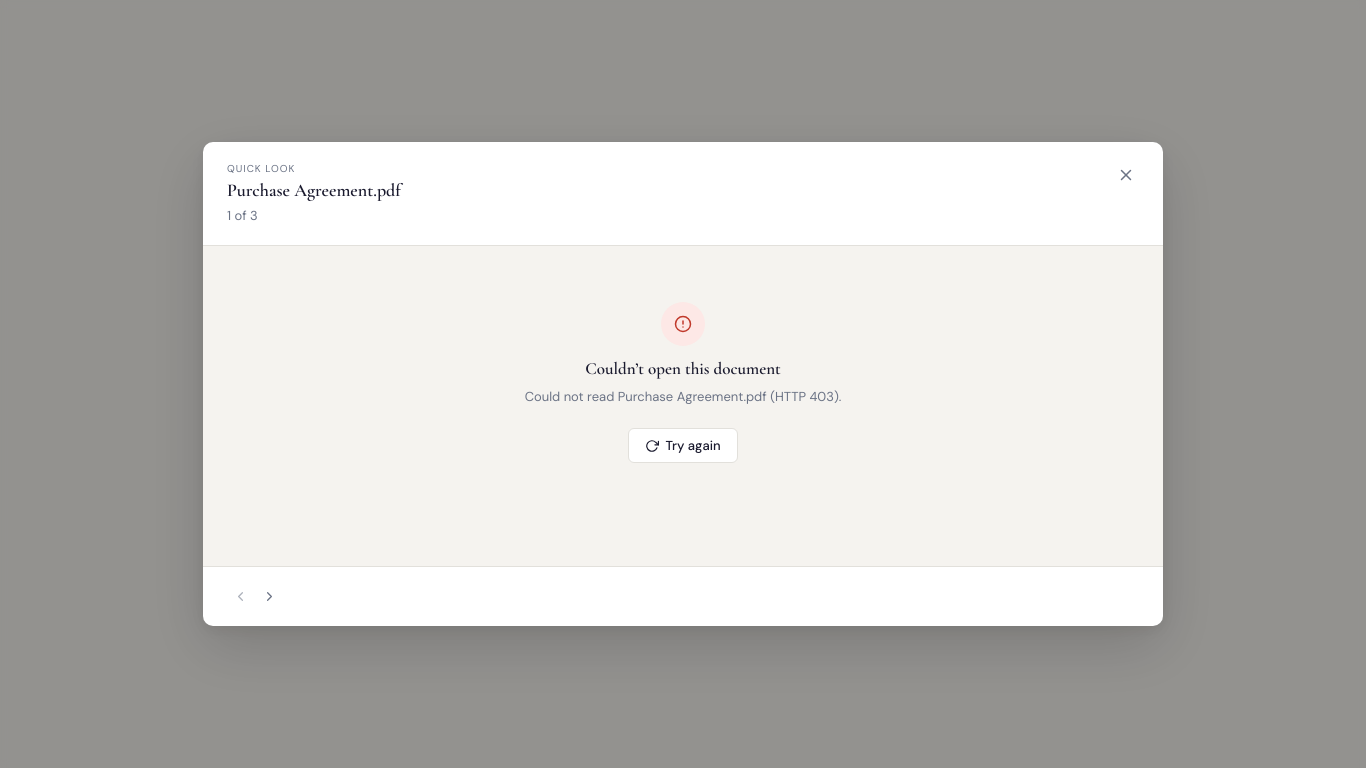
DocumentQuickLook › shows a failure with Try again, which loads it again
The image size is (1366, 768).
Check: the message shows "HTTP 403", box [525,388,841,405]
Click the button "Try again": (683, 446) [628,428,738,463]
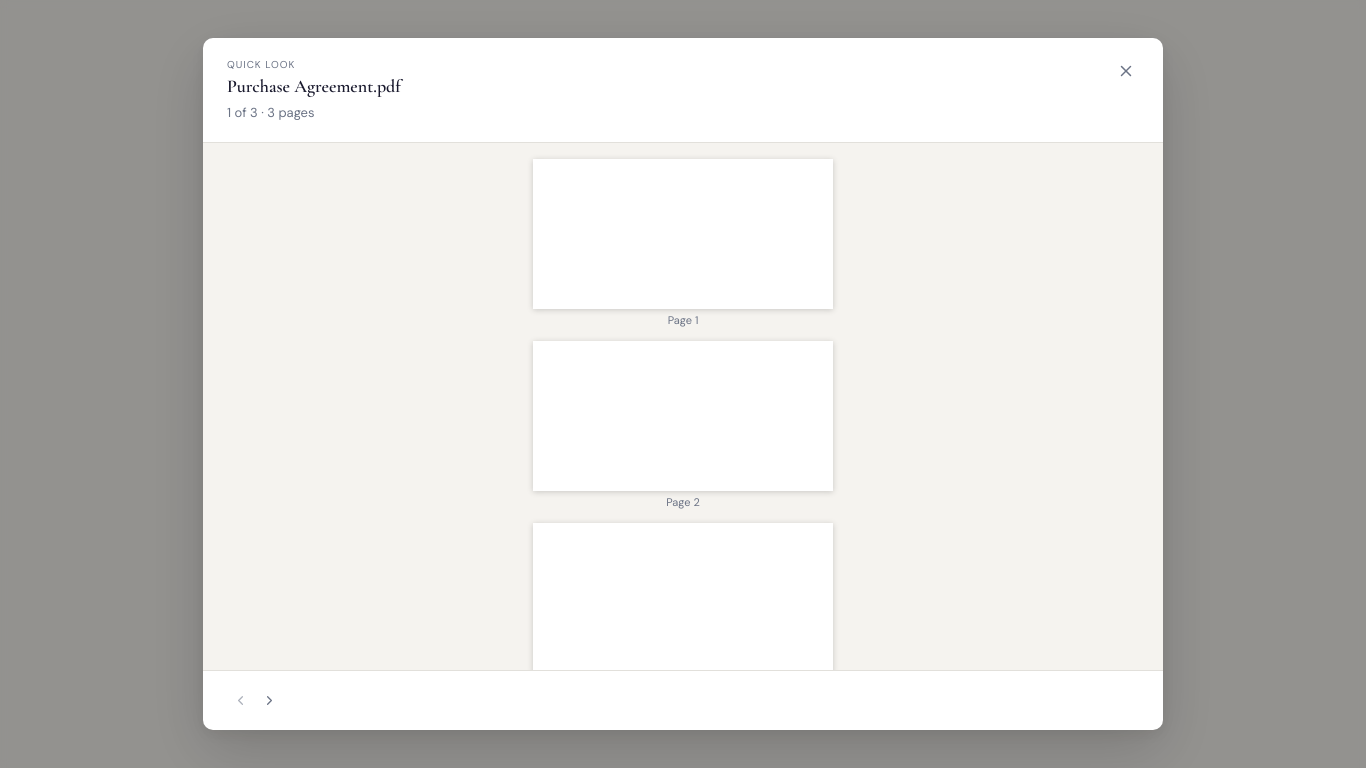
Check: the number of pictures named "Page 1" is 3, box [533,159,833,309]; [533,341,833,491]; [533,523,833,670]
